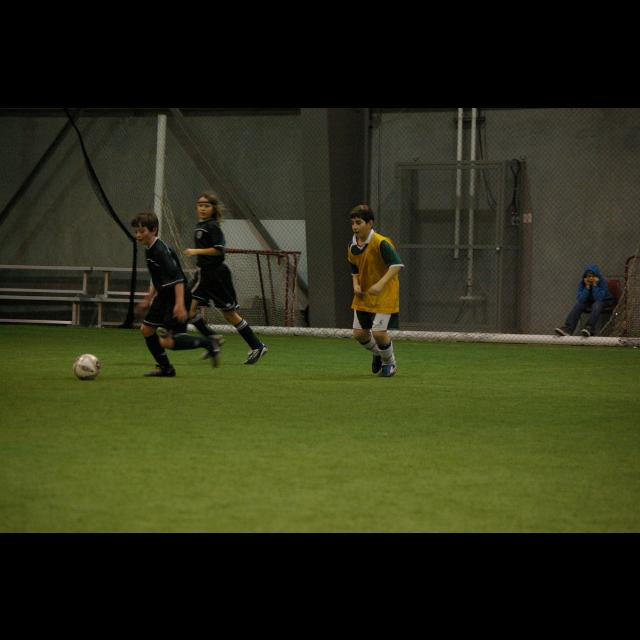Football: (75, 352, 103, 376)
